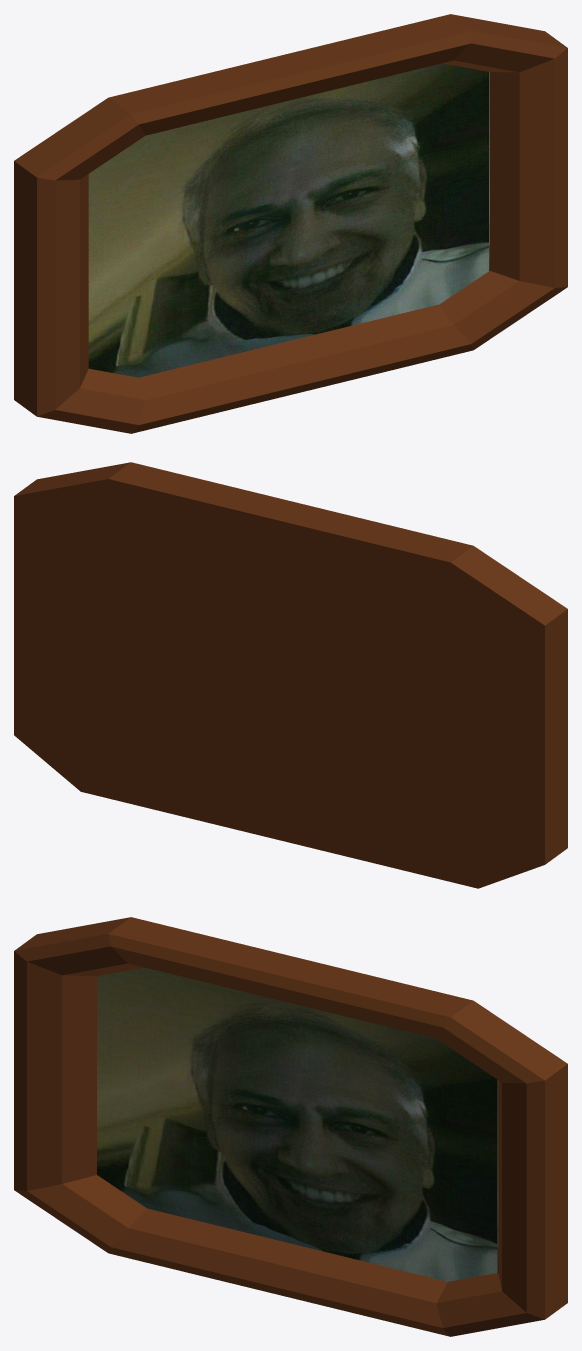
File: Picture 1.fbx
3 views of the same model, one above another, from view 1: azimuth 30°, elevation 25°; view 2: azimuth 150°, elevation 25°; view 3: azimuth 330°, elevation 25° (orthographic).
Visible parts, largest first — view 1: Cube; view 2: Cube; view 3: Cube.
Part boxes in pixels (x1,y1,x2,y2): Cube: (14, 14, 567, 433); Cube: (14, 462, 567, 888); Cube: (14, 917, 567, 1336).
Bounding box in the file's own units: 212 × 122 × 17.65.
